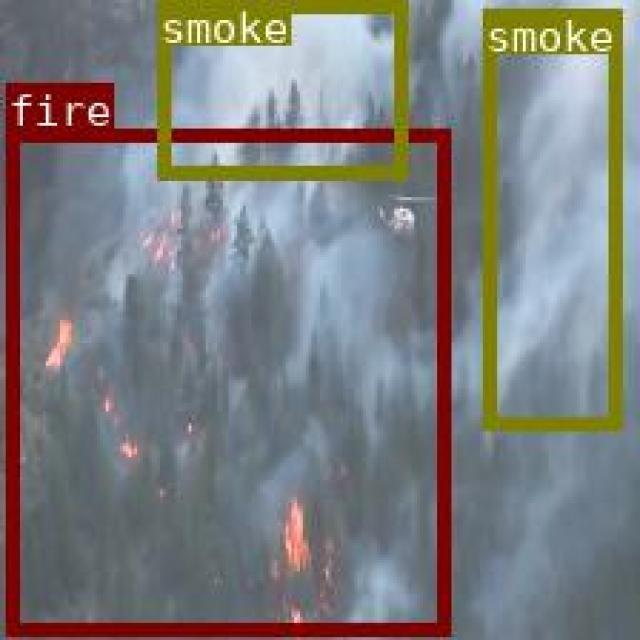fire: (4, 128, 446, 633)
smoke: (482, 6, 618, 426), (154, 0, 406, 177)
